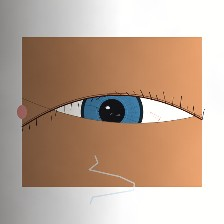foreign_body_visible: (52, 75, 94, 109)
